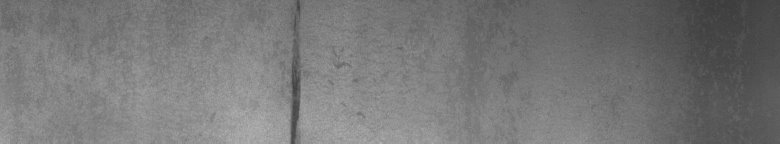hd: (284, 4, 305, 136)
